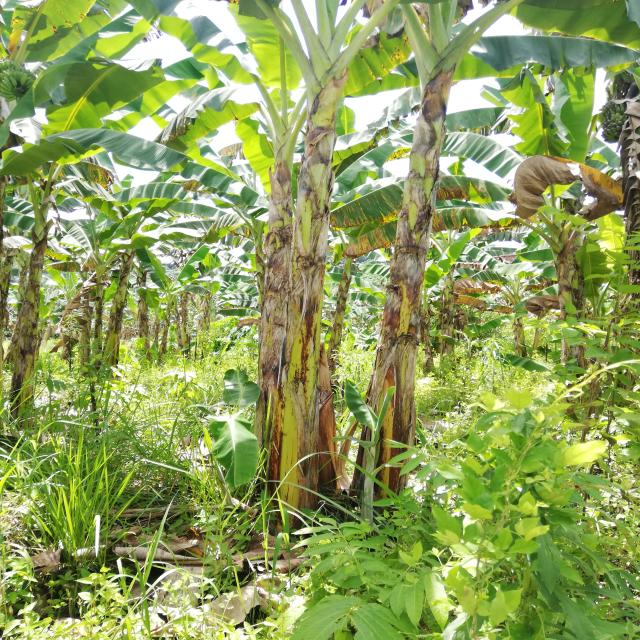Banana-plant: (352, 30, 472, 519), (275, 48, 360, 514), (244, 138, 290, 542), (0, 208, 56, 441)
